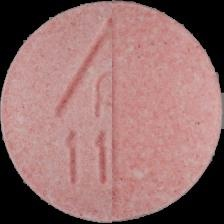63629-4008: (0, 0, 224, 224)
